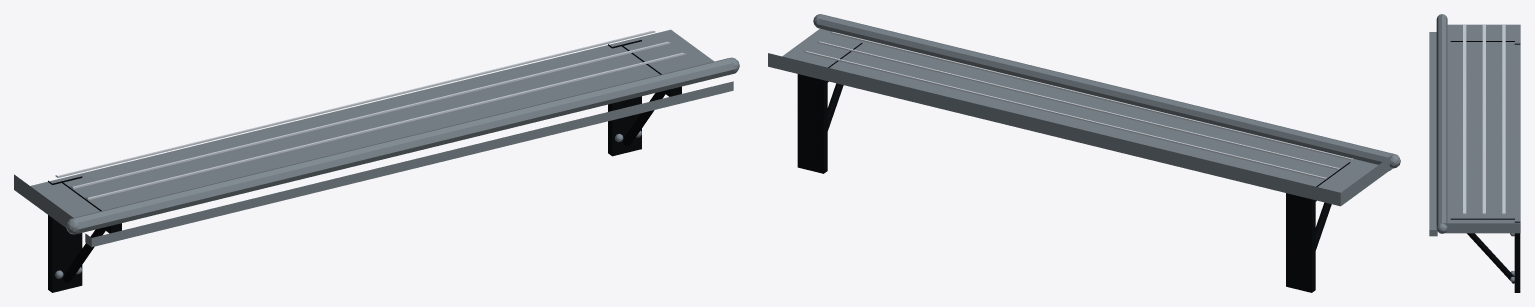
File: tt_play_perch.glb
The picture shows the model from 3 angles, left to right: view 1: azimuth 30°, elevation 25°; view 2: azimuth 150°, elevation 25°; view 3: azimuth 270°, elevation 25°; orthographic projection. The views are drawn at different scales.
Parts seen in each view (by area): view 1: Seat, FrontSkirt, CourtLine, Bracket, Brace; view 2: Seat, Bracket, CourtLine, Brace; view 3: Seat, CourtLine, FrontSkirt, Bracket, Brace.
Part boxes in pixels (x1,y1,x2,y2): Seat: (14,29,739,234); FrontSkirt: (85,81,733,246); CourtLine: (55,30,685,200); Bracket: (48,40,681,292); Brace: (63,91,665,282); Seat: (768,14,1400,206); Bracket: (797,43,1350,292); CourtLine: (804,32,1353,179); Brace: (827,83,1331,250); Seat: (1436,14,1520,233); CourtLine: (1463,24,1505,214); FrontSkirt: (1429,32,1437,236); Bracket: (1450,41,1520,292); Brace: (1467,233,1514,283).
Size of what is drawn, in the model's own units: 1.8 by 0.318 by 0.326.
Materials: 4 (3 with a texture image).
